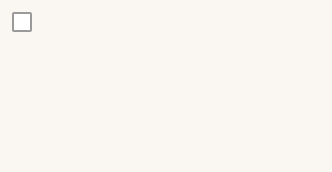
Checkbox Component › Interactions › should toggle on click
Click the checkbox with test id "checkbox" at (22, 22), box [12,12,32,32]
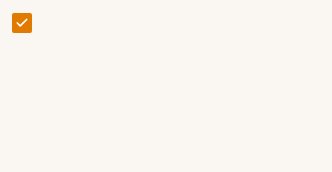
Now the checkbox with test id "checkbox" has attribute data-state="checked"
Click the checkbox with test id "checkbox" at (22, 23), box [12,13,32,33]
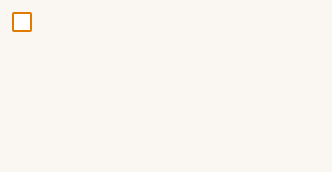
Now the checkbox with test id "checkbox" has attribute data-state="unchecked", box [12,12,32,32]
